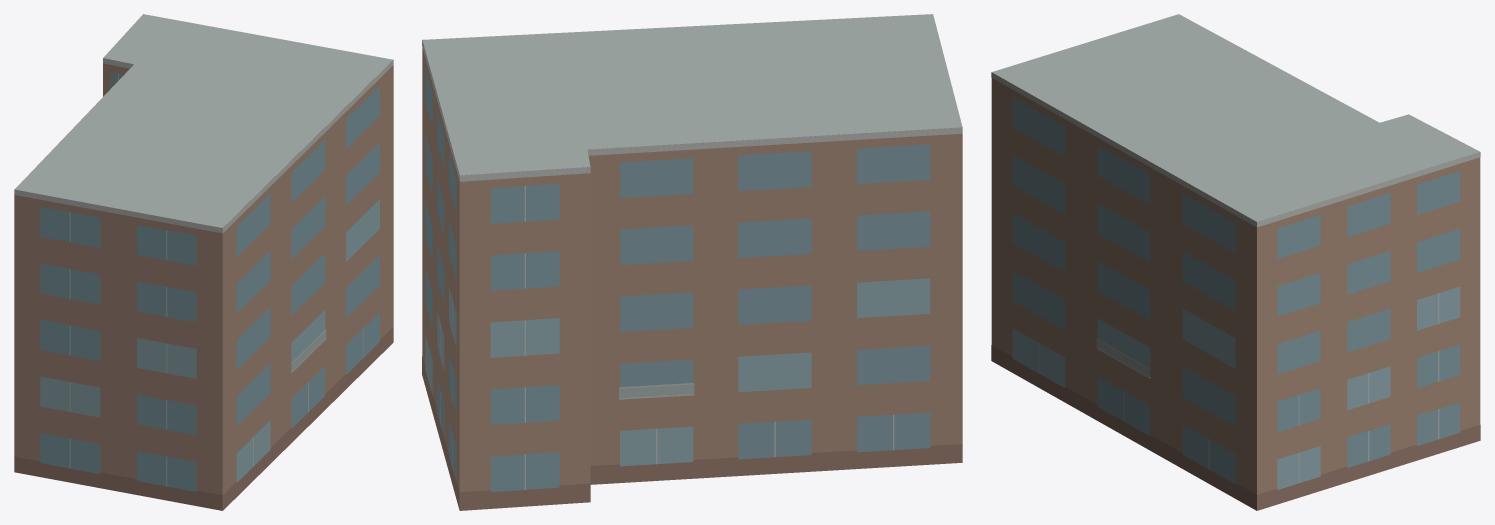
The model's file is survey-upis-32791717.glb.
The picture shows the model from 3 angles, left to right: view 1: azimuth 30°, elevation 25°; view 2: azimuth 150°, elevation 25°; view 3: azimuth 270°, elevation 25°; orthographic projection. The views are drawn at different scales.
Parts seen in each view (by area): view 1: survey-upis-32791717.tmp; view 2: survey-upis-32791717.tmp; view 3: survey-upis-32791717.tmp.
Boxes of the visible parts, x1,y1,x2,y2 form: survey-upis-32791717.tmp: (14, 14, 393, 510); survey-upis-32791717.tmp: (422, 14, 962, 510); survey-upis-32791717.tmp: (991, 14, 1480, 510).
Bounding box in the file's own units: 20.09 × 13 × 19.95.
